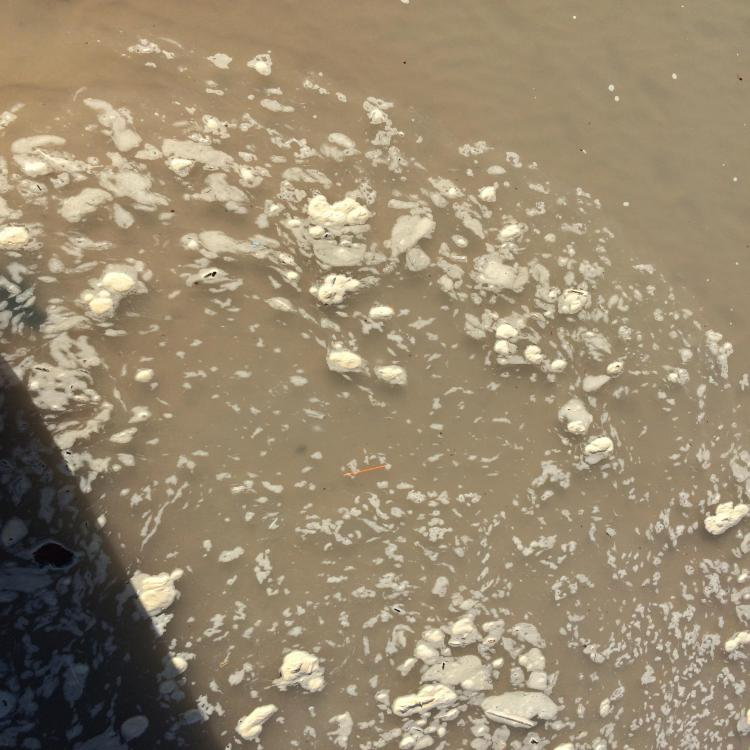Plastic straw: (343, 465, 387, 477)
